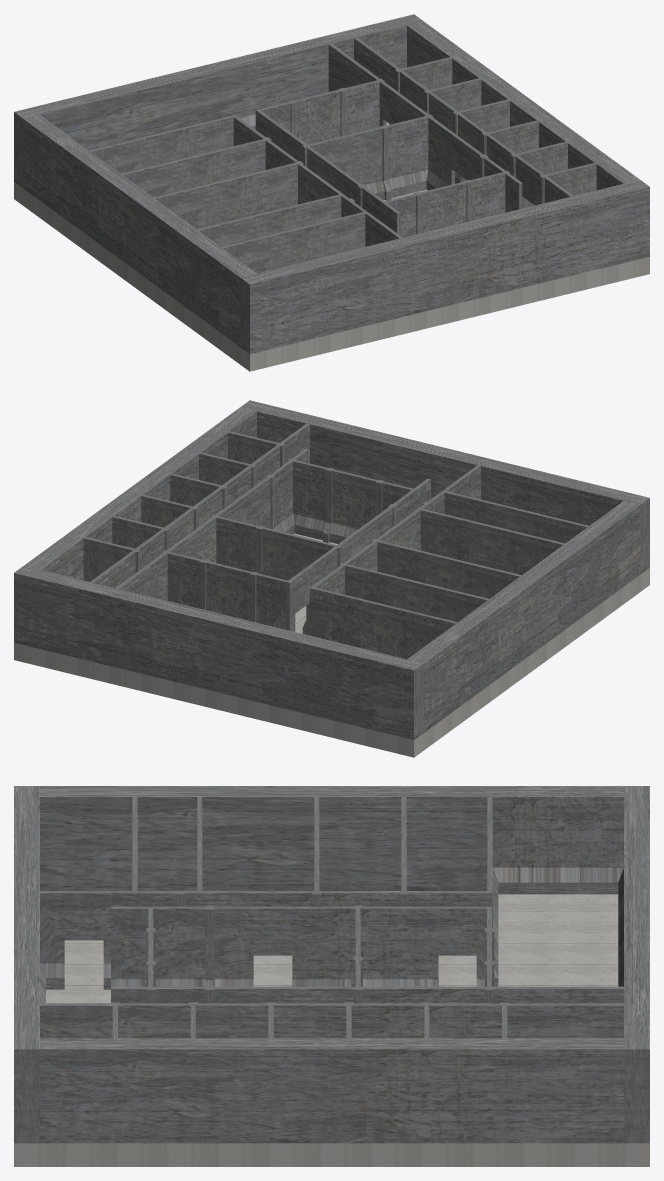
Rendered from TextureFlat.fbx.
3 renders of one model, top to bottom at view 1: azimuth 30°, elevation 25°; view 2: azimuth 150°, elevation 25°; view 3: azimuth 270°, elevation 25°, orthographic. The views are drawn at different scales.
Visible parts, largest first — view 1: ExternalWallLeft; view 2: ExternalWallLeft; view 3: ExternalWallLeft.
Boxes of the visible parts, bbox=[...] form: ExternalWallLeft: bbox=[14, 14, 649, 371]; ExternalWallLeft: bbox=[14, 400, 649, 757]; ExternalWallLeft: bbox=[14, 786, 649, 1166].
Size of the model in its own units: 24 by 5 by 24.5.
Materials: 2 (2 with a texture image).
